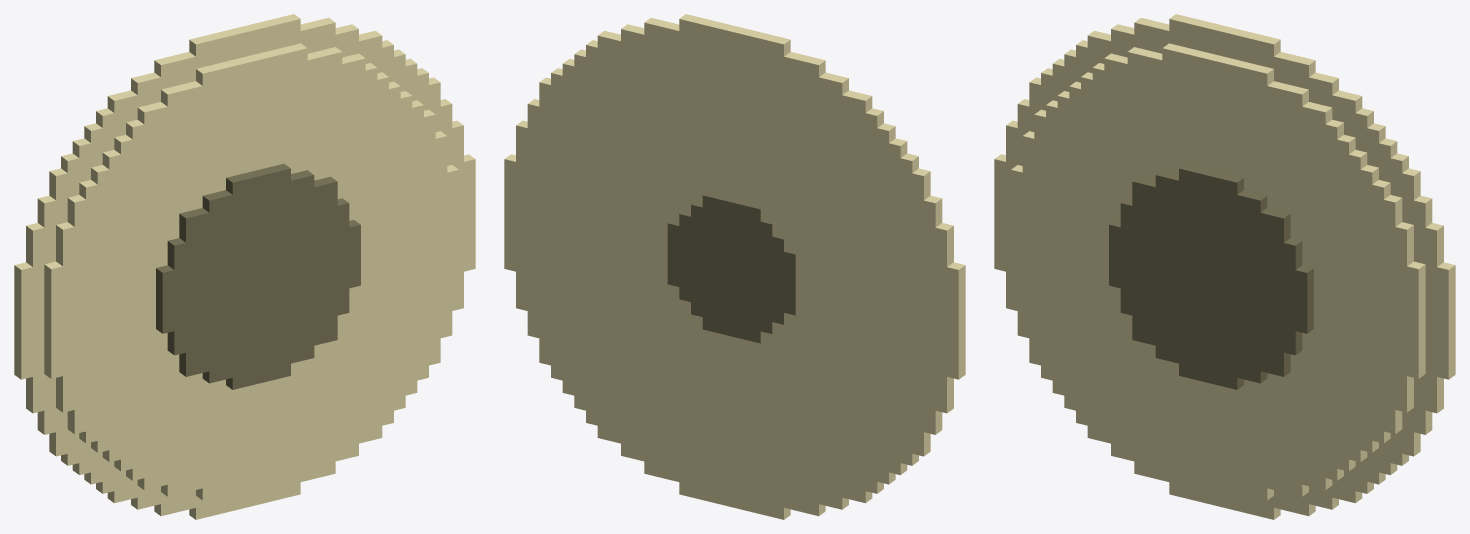
The model's file is Target Dummies.obj.
3 renders of one model, left to right at view 1: azimuth 30°, elevation 25°; view 2: azimuth 150°, elevation 25°; view 3: azimuth 330°, elevation 25°, orthographic.
Visible parts, largest first — view 1: Target Dummies; view 2: Target Dummies; view 3: Target Dummies.
Part boxes in pixels (<box>): Target Dummies: <box>14,14,475,519</box>; Target Dummies: <box>504,14,965,519</box>; Target Dummies: <box>994,14,1455,519</box>.
Size of the model in its own units: 39 by 39 by 3.
1 material, 1 textured.
